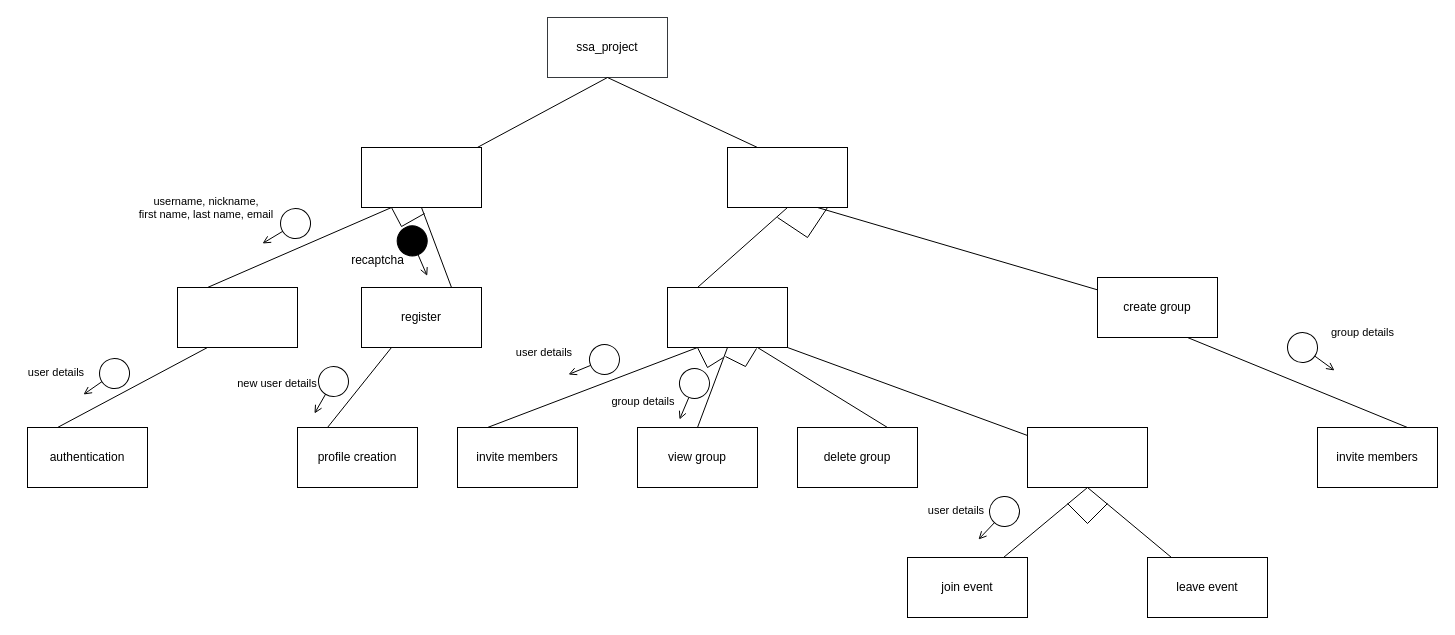
Some shapes in this 1455 by 635 pixel diagram are drawn without their labels. Each missing label, with the centre of its shape:
chipin: the point at 787,177
events: the point at 1087,457
groups: the point at 727,317
login: the point at 237,317
users: the point at 421,177
